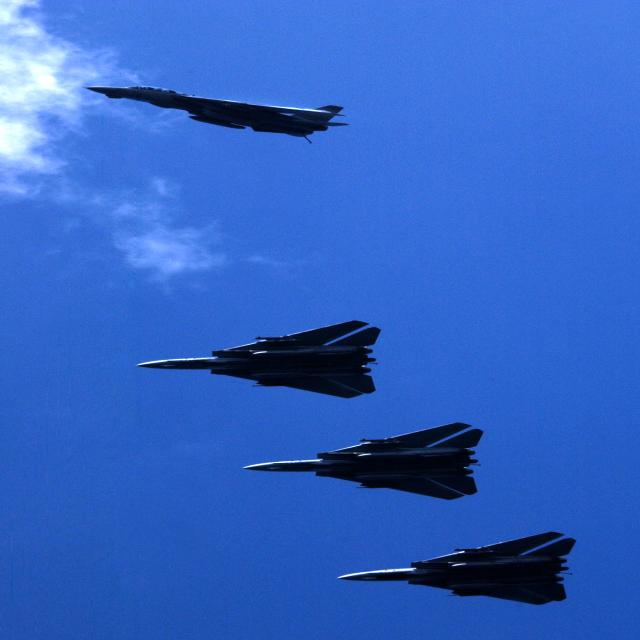MIL_Plane: (134, 316, 381, 402), (242, 423, 484, 499), (336, 531, 577, 605), (83, 85, 351, 144)
